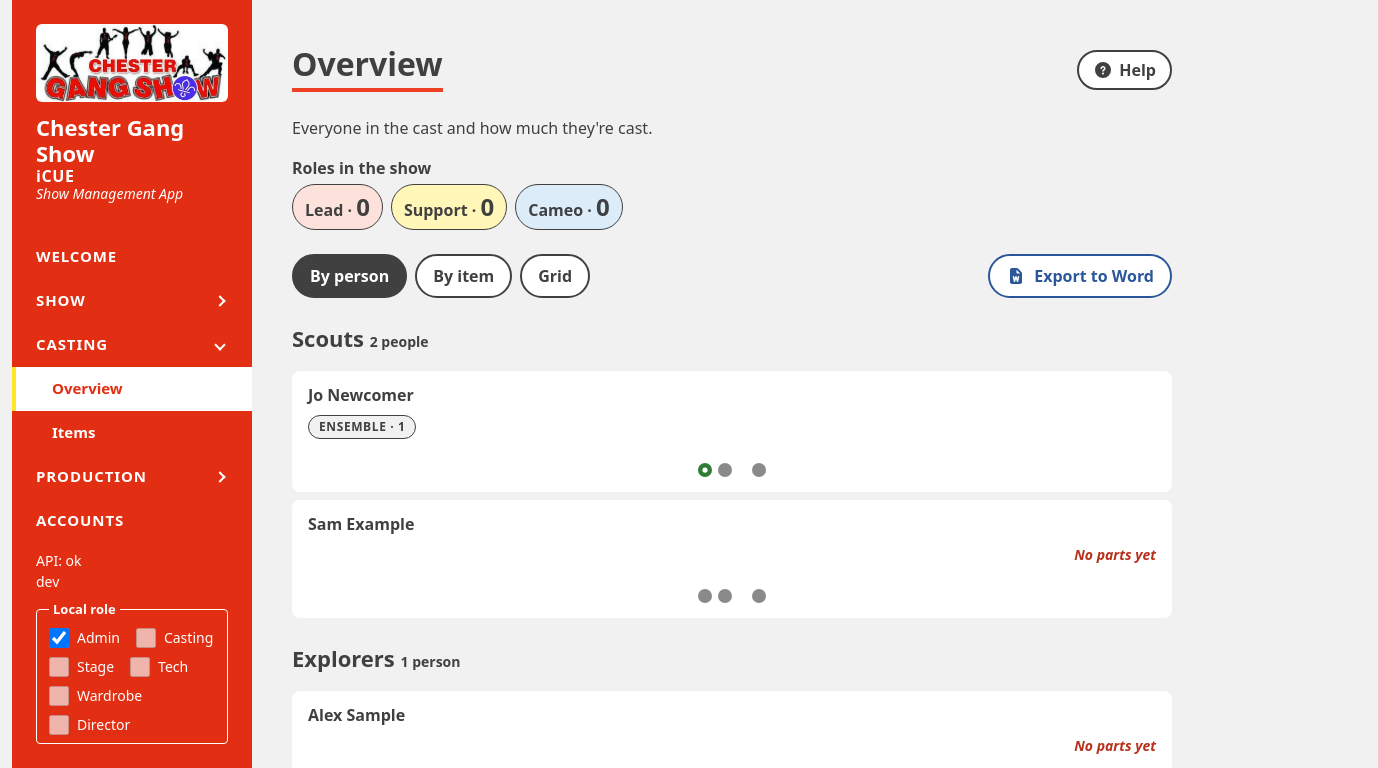
Casting grid on the Overview › shows an ensemble part as a dot with the letter E
Step 1. Click the button "Grid" → (555, 276), box [520,254,590,298]
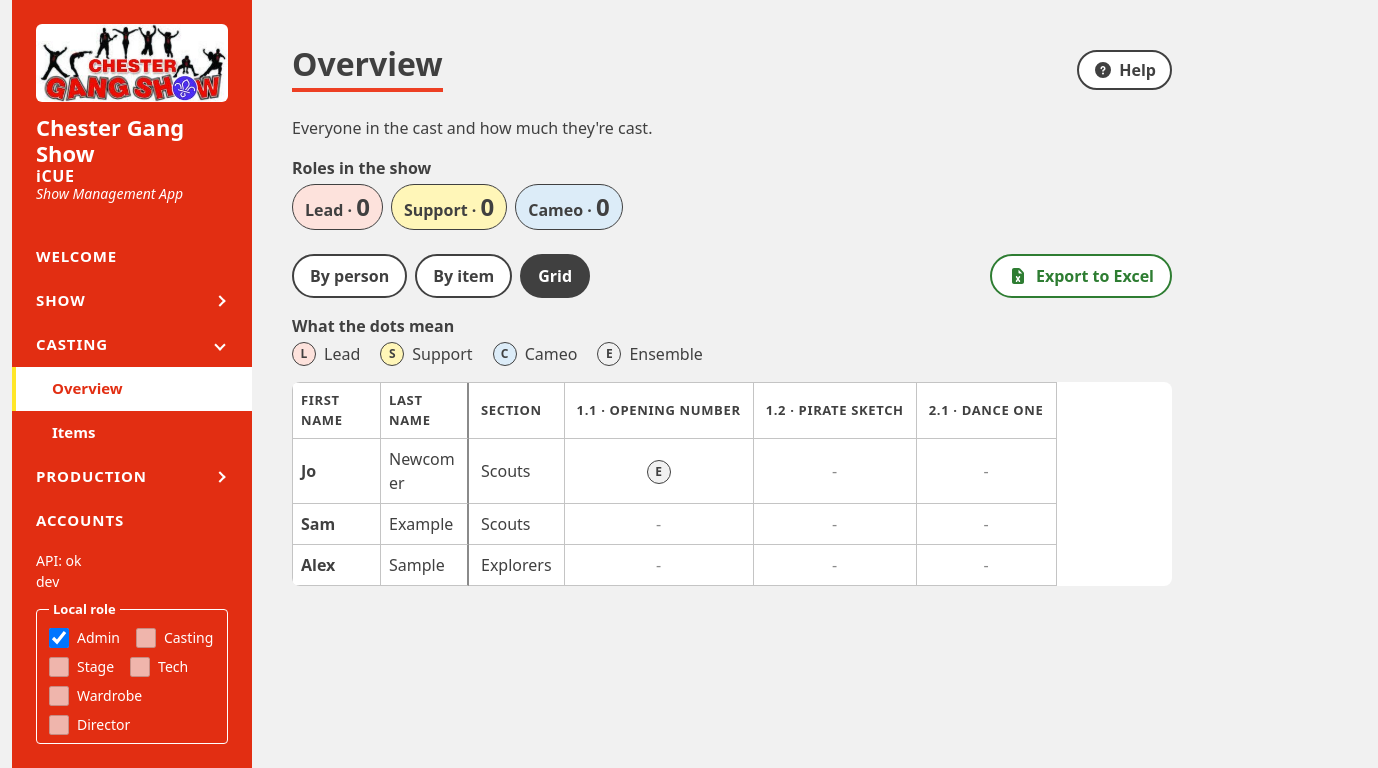
Now the text with test id "grid-dot" in the row of "Jo" reads "E", box [655,463,662,480]
